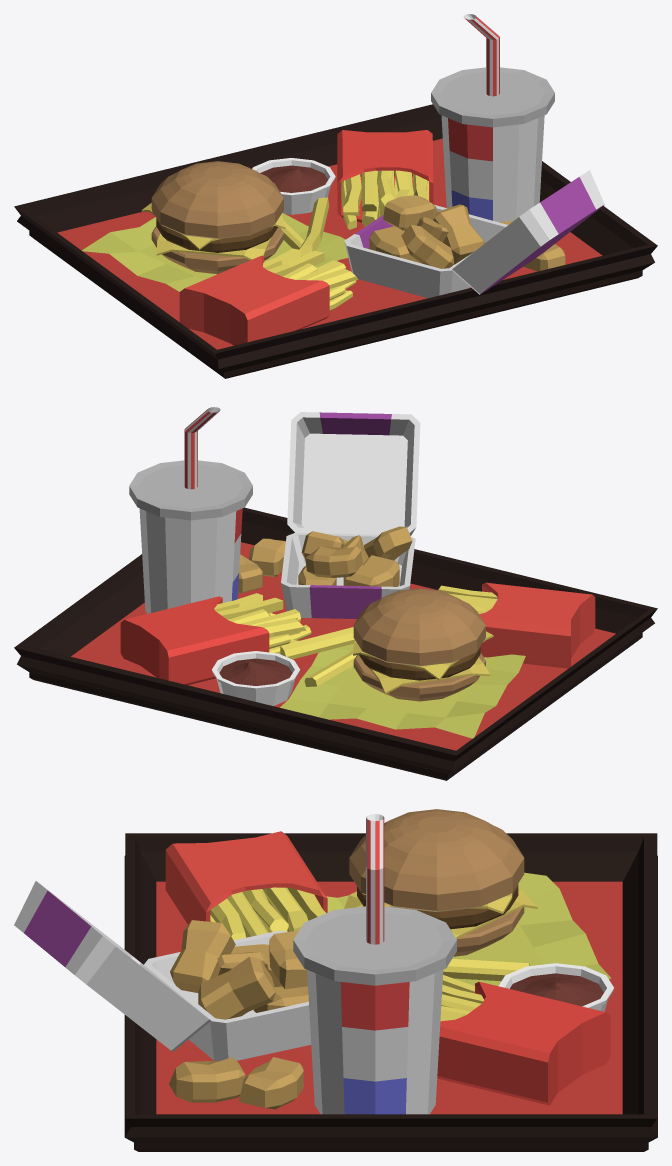
3 views of the same model, one above another, from view 1: azimuth 30°, elevation 25°; view 2: azimuth 150°, elevation 25°; view 3: azimuth 270°, elevation 25° (orthographic). The views are drawn at different scales.
Parts seen in each view (by area): view 1: tray, soda, nuggetbox, frybox.001, burger bun, nugget, burgerpaper, frybox, friesinbox, friesinbox.001, bottom burger bun, saucecontainer (+5 smaller); view 2: tray, nuggetbox, soda, burgerpaper, frybox, burger bun, frybox.001, nugget, friesinbox, saucecontainer, bottom burger bun, sauce (+8 smaller); view 3: tray, soda, nuggetbox, frybox, burger bun, nugget, frybox.001, burgerpaper, friesinbox.001, nugget.007, nugget.006, sauce (+6 smaller).
Part boxes in pixels (x1,y1,x2,y2): tray: (14, 104, 657, 378); soda: (431, 14, 554, 222); nuggetbox: (344, 170, 604, 298); frybox.001: (179, 255, 329, 345); burger bun: (151, 161, 283, 238); nugget: (369, 195, 485, 268); burgerpaper: (82, 213, 348, 291); frybox: (337, 130, 433, 222); friesinbox: (341, 170, 428, 229); friesinbox.001: (262, 248, 358, 310); bottom burger bun: (151, 226, 283, 274); saucecontainer: (252, 158, 335, 214); tray: (14, 507, 657, 780); nuggetbox: (281, 412, 420, 618); soda: (129, 407, 252, 613); burgerpaper: (280, 644, 525, 738); frybox: (120, 596, 269, 685); burger bun: (353, 588, 485, 666); frybox.001: (479, 582, 595, 668); nugget: (298, 526, 412, 586); friesinbox: (214, 593, 311, 654); saucecontainer: (212, 651, 299, 705); bottom burger bun: (353, 652, 485, 701); sauce: (219, 658, 292, 685); tray: (124, 833, 657, 1151); soda: (293, 814, 456, 1114); nuggetbox: (14, 881, 311, 1060); frybox: (437, 981, 610, 1105); burger bun: (349, 809, 524, 911); nugget: (170, 920, 308, 1019); frybox.001: (165, 831, 327, 924); burgerpaper: (326, 872, 611, 985); friesinbox.001: (210, 887, 325, 940); nugget.007: (169, 1057, 245, 1102); nugget.006: (238, 1057, 303, 1109); sauce: (510, 973, 603, 1006).
Size of the model in its own units: 772 by 358 by 736.
